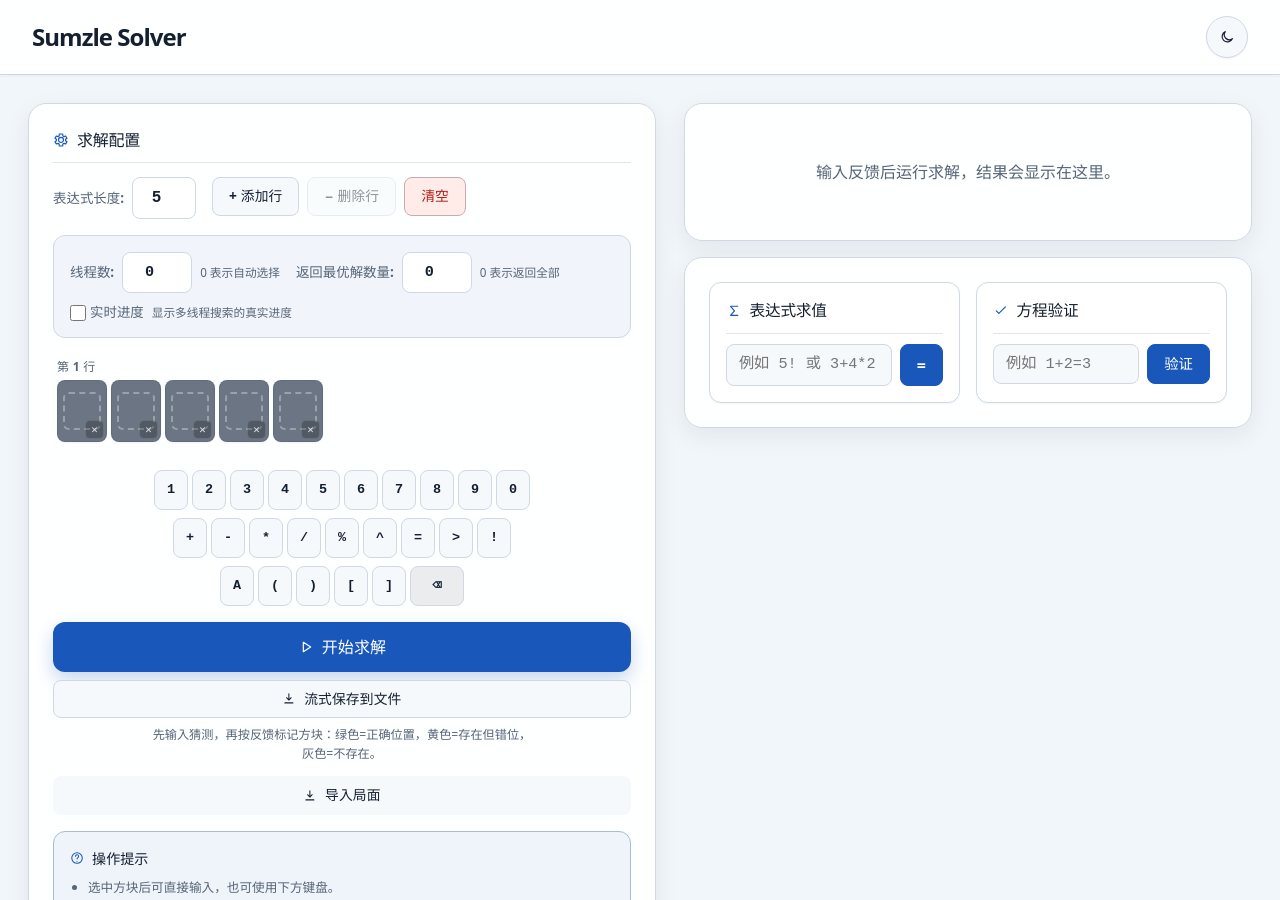
Test: App › accepts the maximum supported expression length without error
Replace the text in the number field labelled "表达式长度:" with "64" at (164, 198), box 132,177 -> 196,219
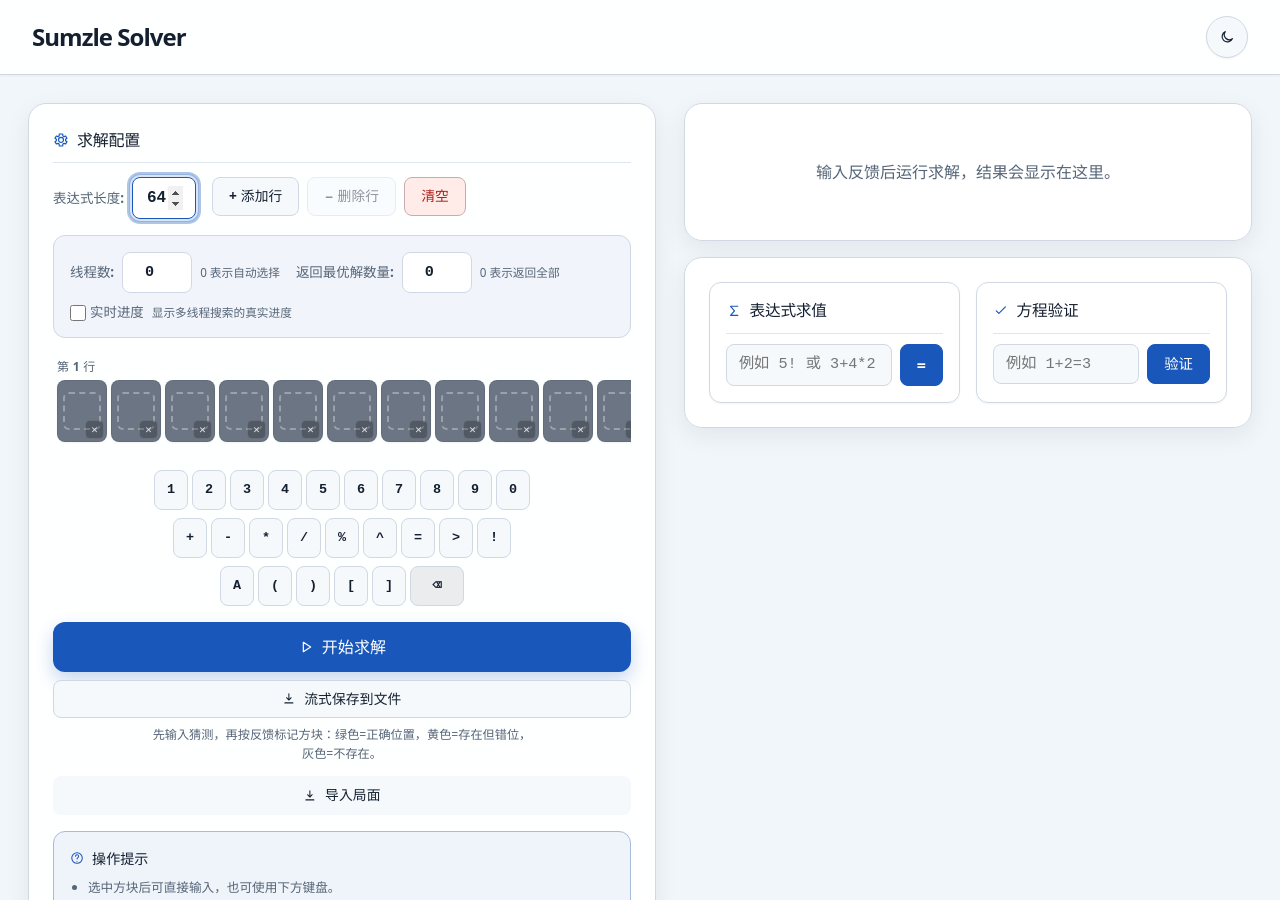
Result: the number of fields named "输入方块字符" is 64
